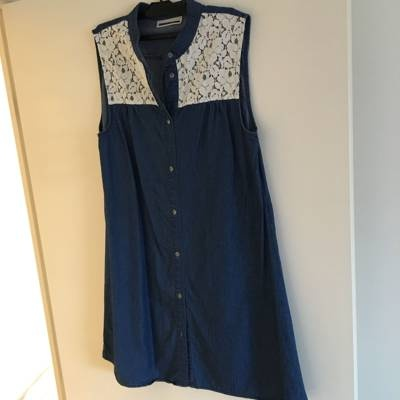Dress: (64, 9, 319, 395)
